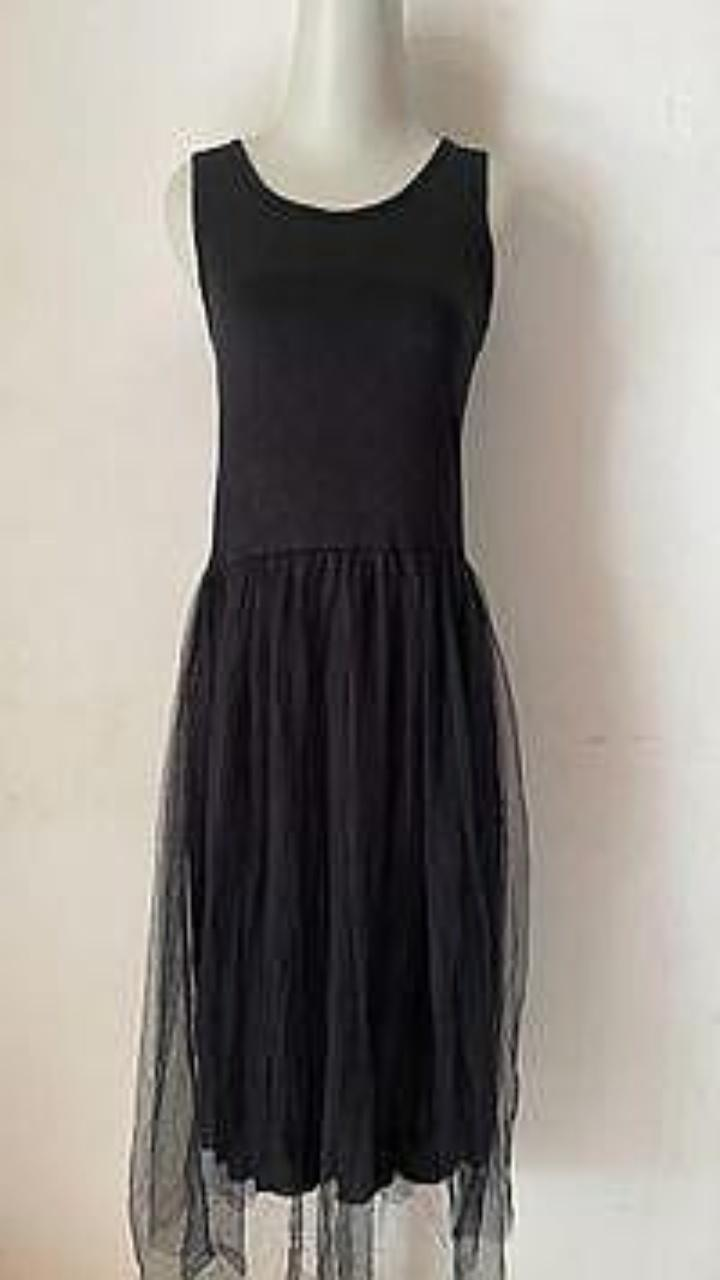Dresses: (130, 138, 528, 1279)
